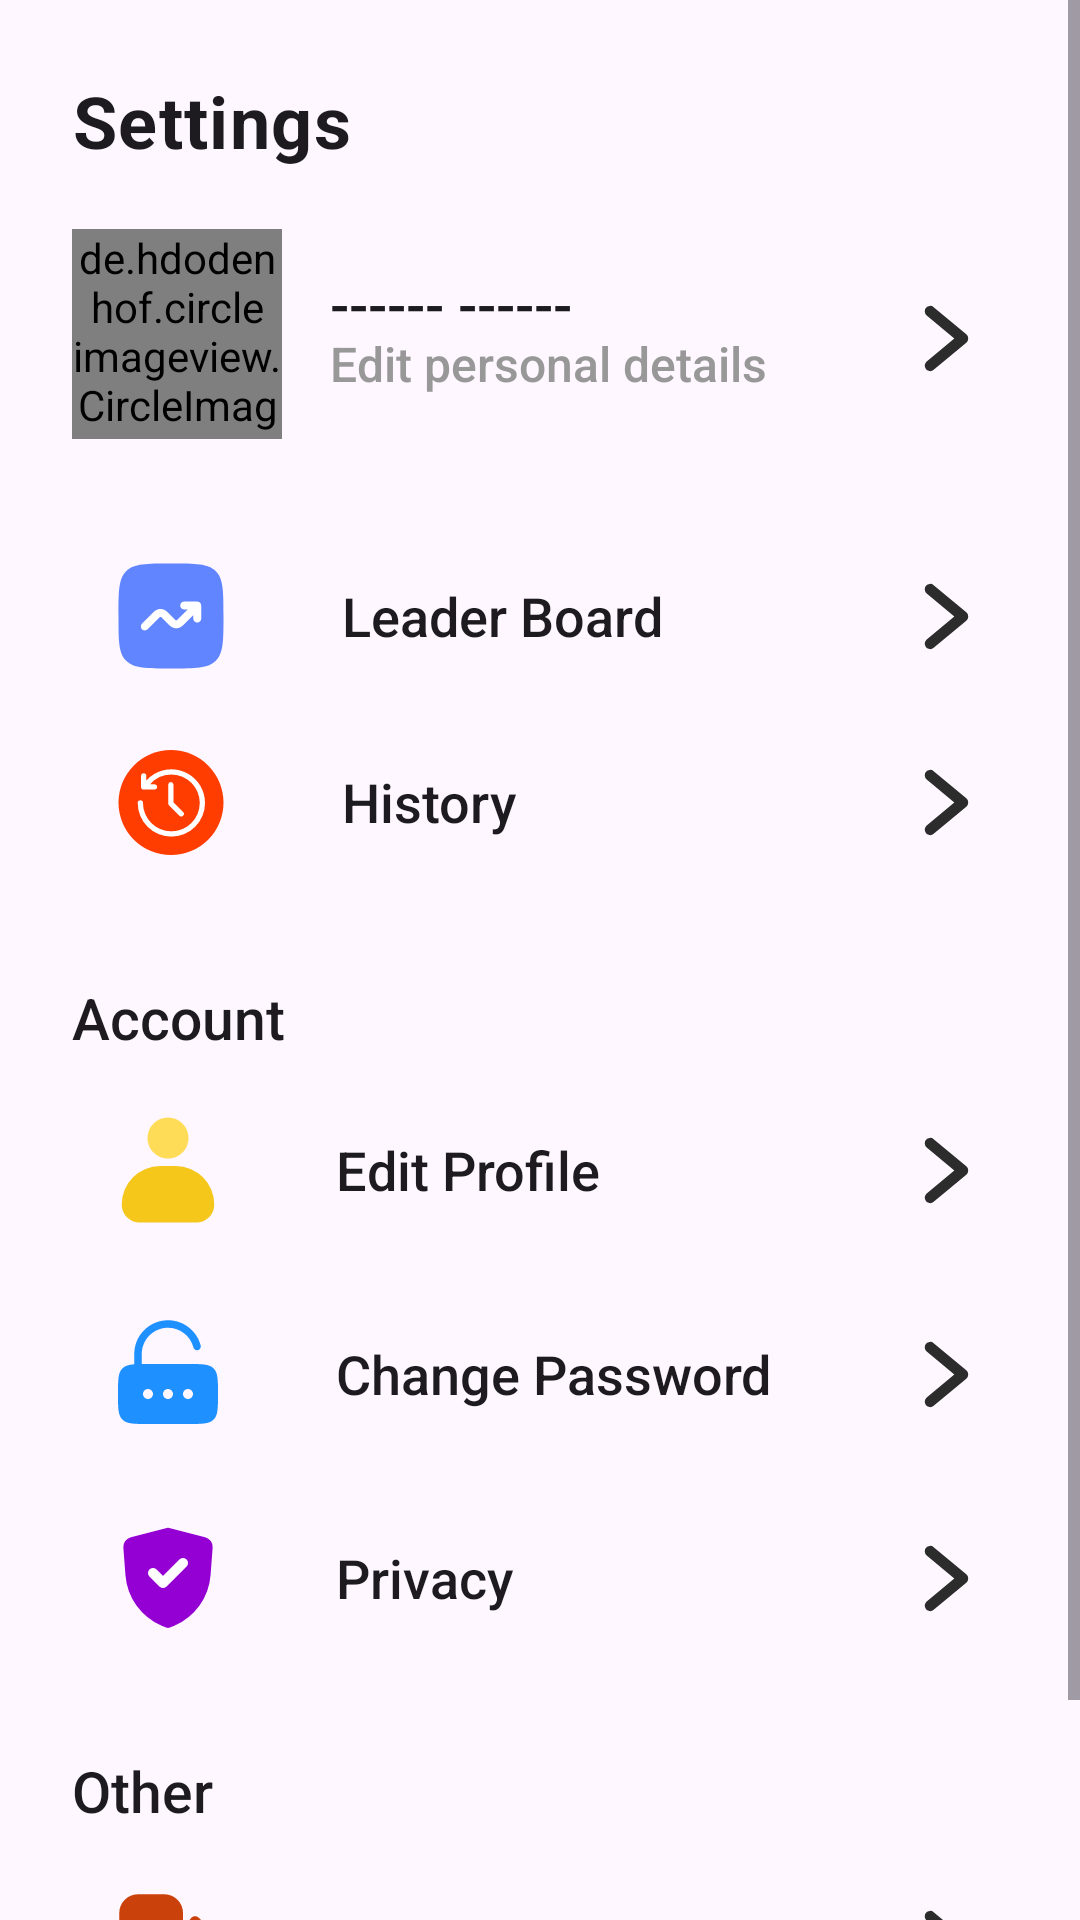

Icons on this 1080x1920 Android screen, each with its box as (x1, y1, x2, y2):
lock: (118, 1320, 218, 1424)
